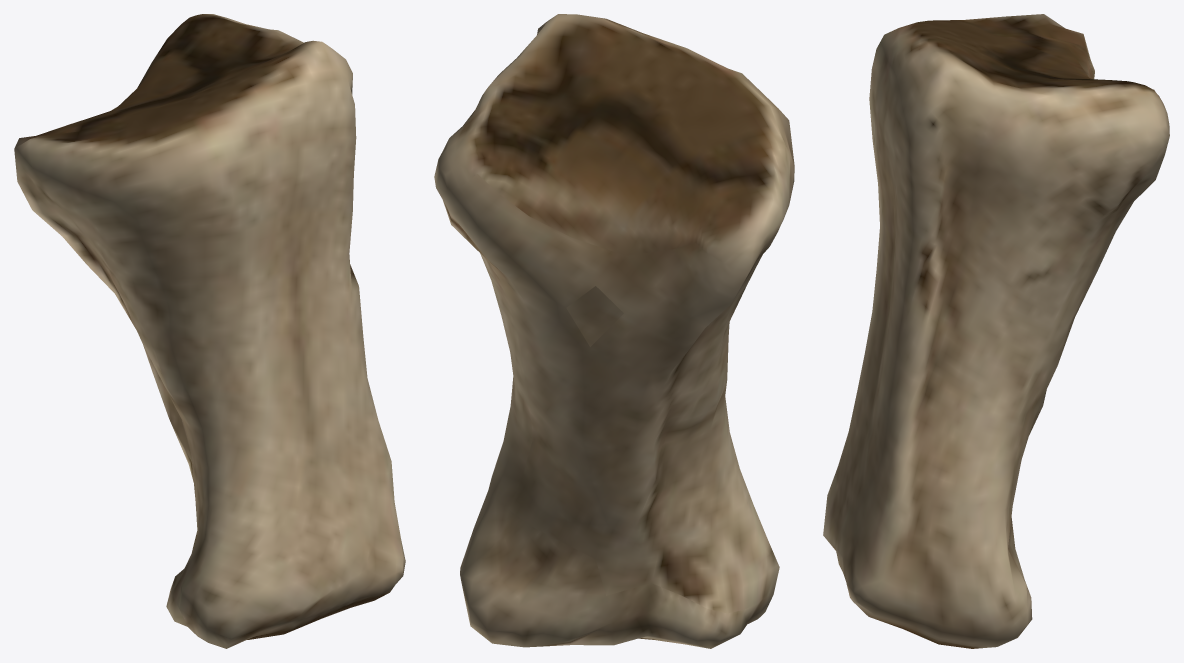
File: Long_Pastern.glb
3 views of the same model, side by side, from view 1: azimuth 30°, elevation 25°; view 2: azimuth 150°, elevation 25°; view 3: azimuth 270°, elevation 25° (orthographic). The views are drawn at different scales.
Parts seen in each view (by area): view 1: L_Bck_Long_Pastern; view 2: L_Bck_Long_Pastern; view 3: L_Bck_Long_Pastern.
Part boxes in pixels (left/top/right/bottom): L_Bck_Long_Pastern: left=14, top=14, right=405, bottom=648; L_Bck_Long_Pastern: left=434, top=14, right=794, bottom=648; L_Bck_Long_Pastern: left=823, top=14, right=1169, bottom=648.
Size of the model in its own units: 0.0547 by 0.0938 by 0.0511.
Materials: 1 (1 with a texture image).
